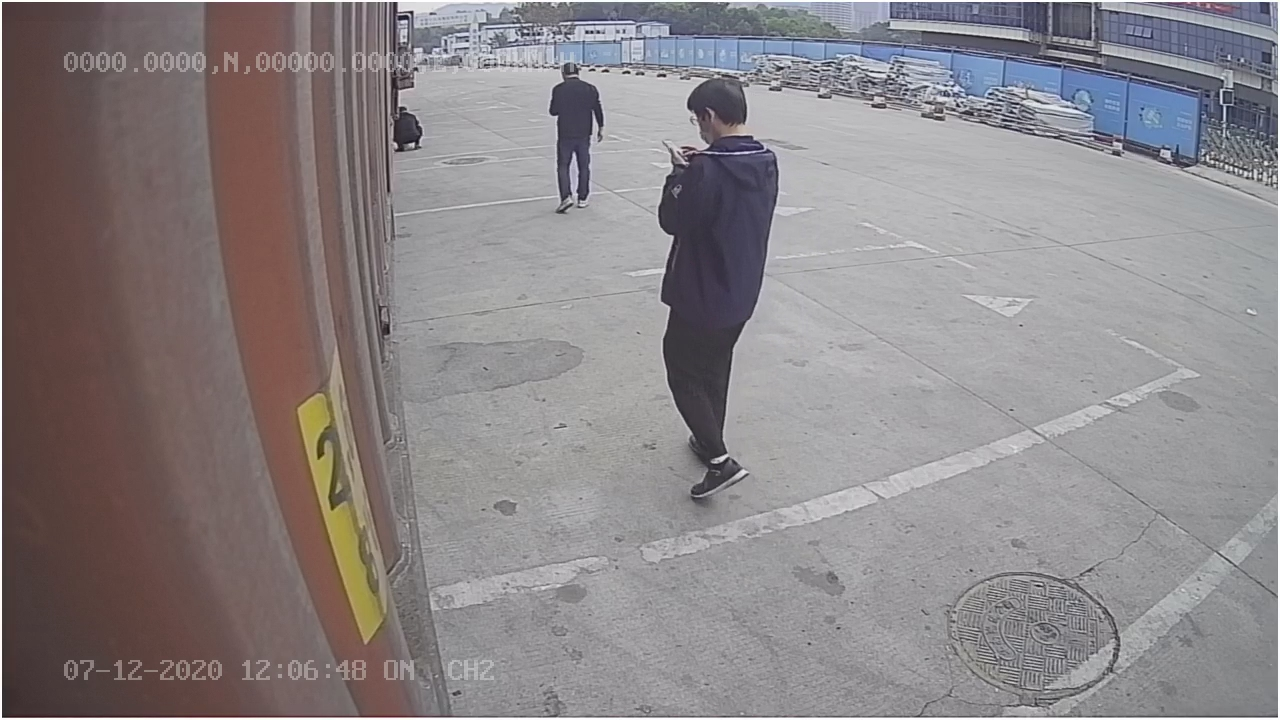person: (654, 74, 780, 499)
